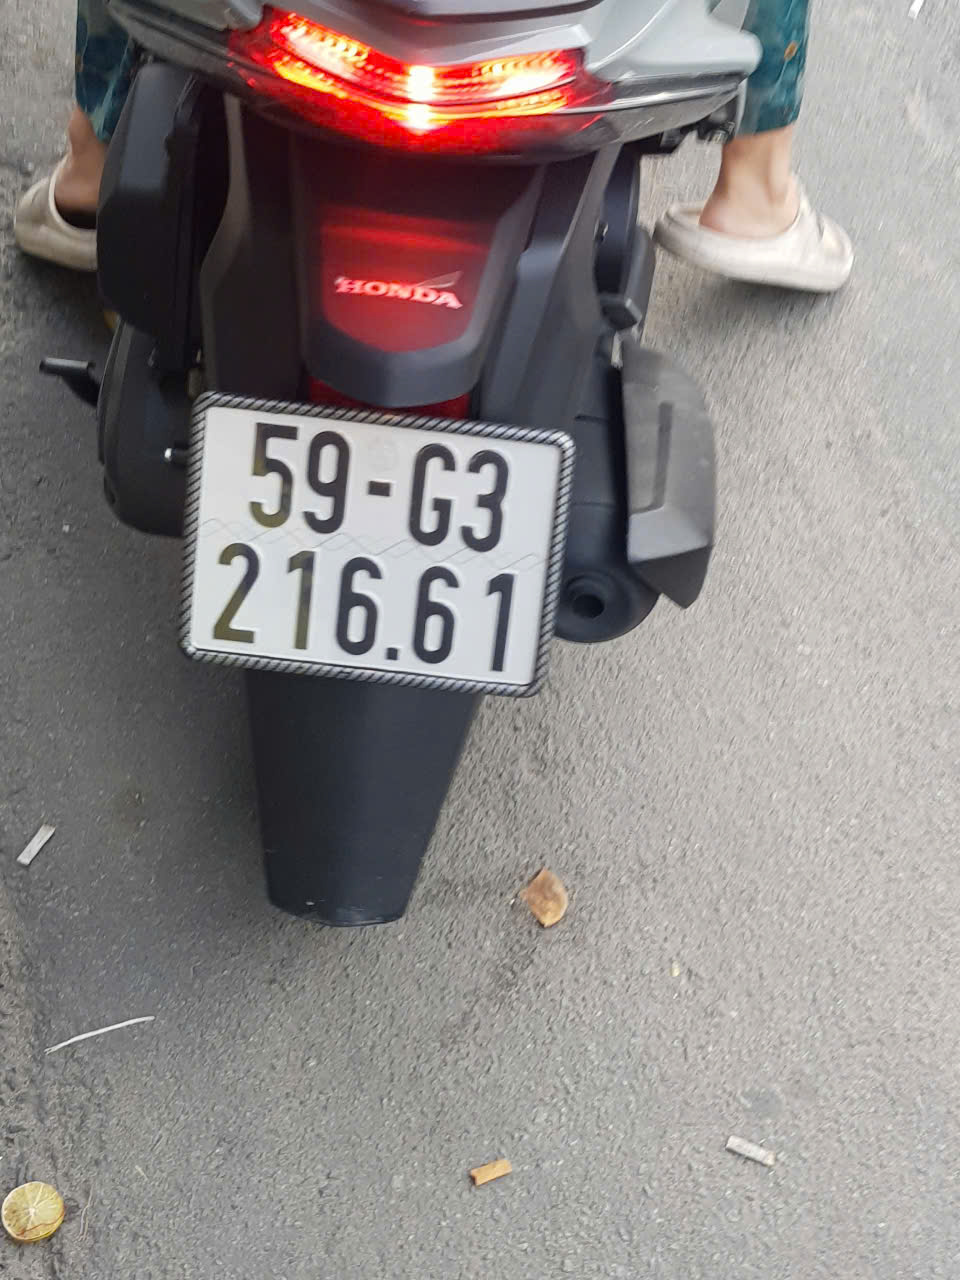bien_so: (182, 400, 568, 696)
